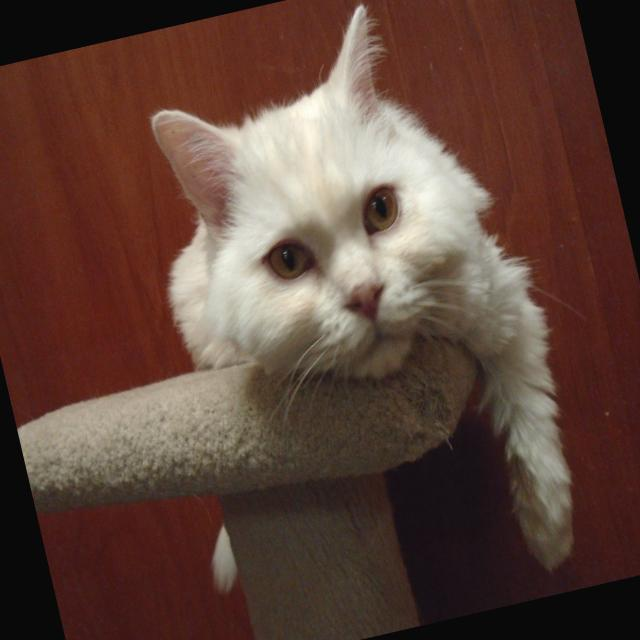persian_cat: (98, 0, 548, 457)
